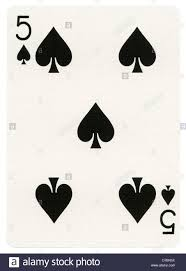five of spades: (8, 5, 178, 246)
